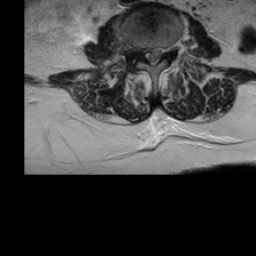CCS_normal: (150, 40, 156, 70)
LFS_stenosis: (164, 40, 170, 58)
LLS_normal: (158, 42, 163, 63)
RFS_severe_stenosis: (136, 40, 143, 59)
RLS_normal: (143, 39, 150, 63)
